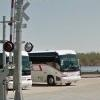Bus: (23, 47, 84, 88)
